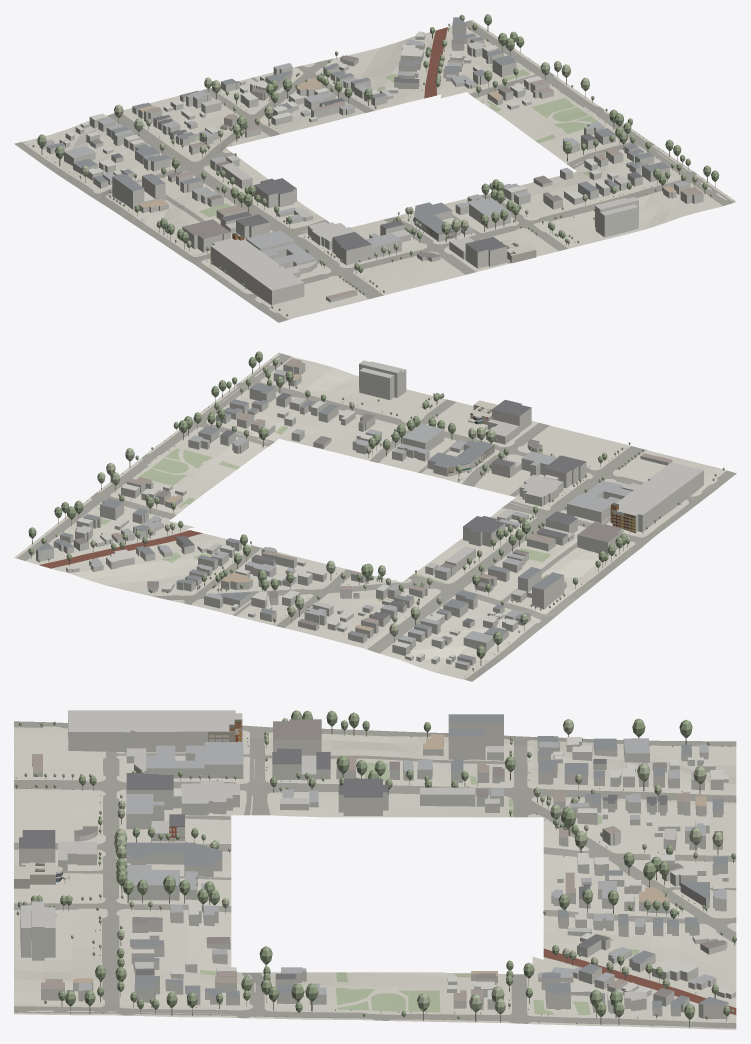
The model's file is urban-outer.glb.
3 renders of one model, top to bottom at view 1: azimuth 30°, elevation 25°; view 2: azimuth 150°, elevation 25°; view 3: azimuth 270°, elevation 25°, orthographic. The views are drawn at different scales.
Parts seen in each view (by area): view 1: District ground · ground, Original context surface, Street pavement · road, Street trees · leafA, Roof #b8b9bb, Roof #cfcdc8, Roof #96999d, Roof #7d7c7f, Street trees · leafB, Low planting · plant, Roof #999490, Roof #b0a79d (+3 smaller); view 2: District ground · ground, Original context surface, Street pavement · road, Street trees · leafA, Roof #b8b9bb, Roof #cfcdc8, Roof #96999d, Roof #7d7c7f, Street trees · leafB, Low planting · plant, Roof #999490, Roof #b0a79d (+4 smaller); view 3: District ground · ground, Original context surface, Street pavement · road, Street trees · leafA, Roof #cfcdc8, Roof #b8b9bb, Roof #96999d, Roof #7d7c7f, Street trees · leafB, Low planting · plant, Roof #999490, Roof #b0a79d (+5 smaller).
Part boxes in pixels (x1,y1,x2,y2): District ground · ground: (22,19,736,319); Original context surface: (39,24,703,305); Street pavement · road: (14,20,733,322); Street trees · leafA: (25,14,719,316); Roof #b8b9bb: (46,39,689,264); Roof #cfcdc8: (136,41,638,290); Roof #96999d: (47,17,669,234); Roof #7d7c7f: (112,77,642,252); Street trees · leafB: (79,23,733,290); Low planting · plant: (195,65,605,217); Roof #999490: (90,39,562,258); Roof #b0a79d: (144,60,703,299); District ground · ground: (14,352,726,679); Original context surface: (36,361,703,670); Street pavement · road: (17,353,736,681); Street trees · leafA: (28,351,724,676); Roof #b8b9bb: (89,369,631,665); Roof #cfcdc8: (75,360,703,608); Roof #96999d: (36,383,563,660); Roof #7d7c7f: (176,392,586,623); Street trees · leafB: (38,353,633,636); Low planting · plant: (97,426,550,601); Roof #999490: (74,413,621,641); Roof #b0a79d: (112,358,671,623); District ground · ground: (14,726,736,1029); Original context surface: (19,719,735,1018); Street pavement · road: (14,721,736,1028); Street trees · leafA: (15,710,736,1025); Roof #cfcdc8: (20,710,676,1000); Roof #b8b9bb: (78,738,726,994); Roof #96999d: (66,714,728,1008); Roof #7d7c7f: (19,748,667,979); Street trees · leafB: (17,718,733,1020); Low planting · plant: (199,762,639,1014); Roof #999490: (74,719,726,997); Roof #b0a79d: (32,754,690,1000).
Bounding box in the file's own units: 503 × 46.01 × 500.
Materials: 48 (1 with a texture image).
